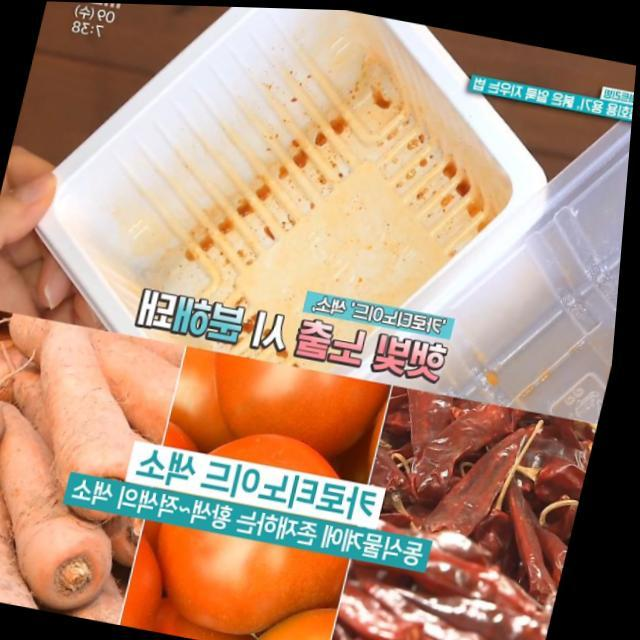bottle: (0, 0, 556, 368)
